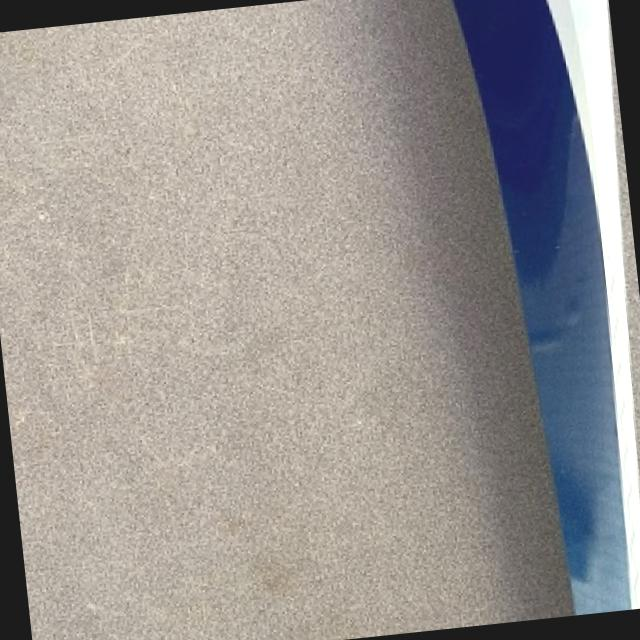healthy: (0, 0, 572, 640)
